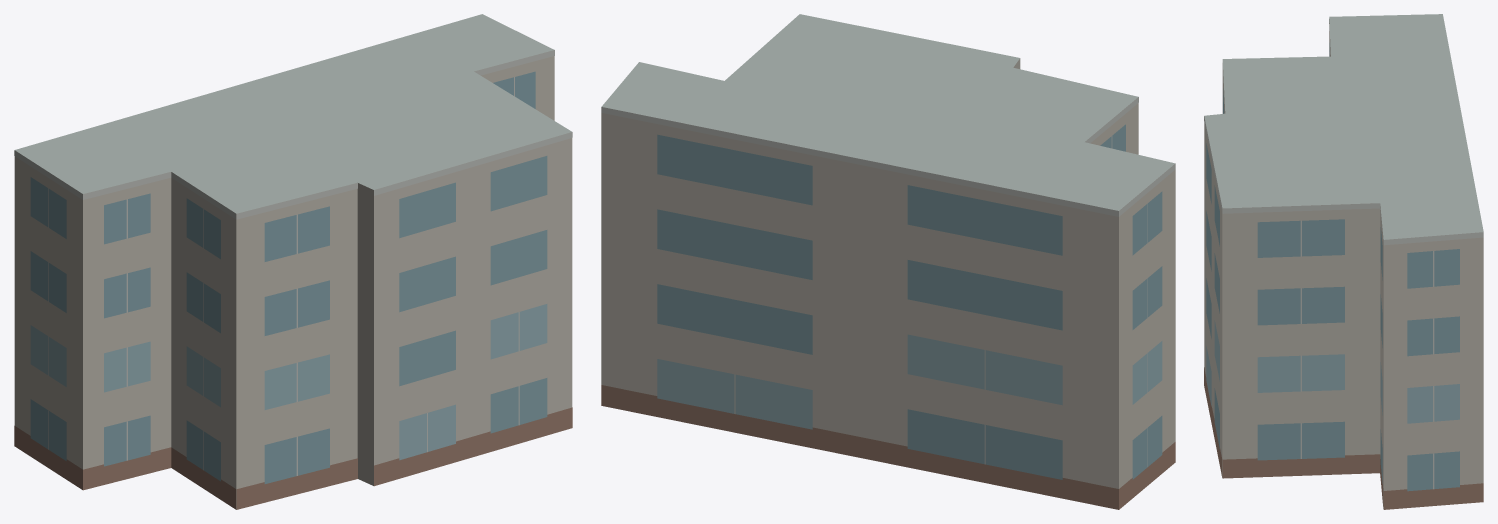
Rendered from survey-upis-32600432.glb.
3 views of the same model, side by side, from view 1: azimuth 30°, elevation 25°; view 2: azimuth 150°, elevation 25°; view 3: azimuth 270°, elevation 25° (orthographic). The views are drawn at different scales.
Parts seen in each view (by area): view 1: survey-upis-32600432.tmp; view 2: survey-upis-32600432.tmp; view 3: survey-upis-32600432.tmp.
Part boxes in pixels (<box>): survey-upis-32600432.tmp: <box>14,14,572,509</box>; survey-upis-32600432.tmp: <box>601,14,1175,509</box>; survey-upis-32600432.tmp: <box>1204,14,1483,509</box>.
Size of the model in its own units: 21.9 by 12.2 by 11.46.
